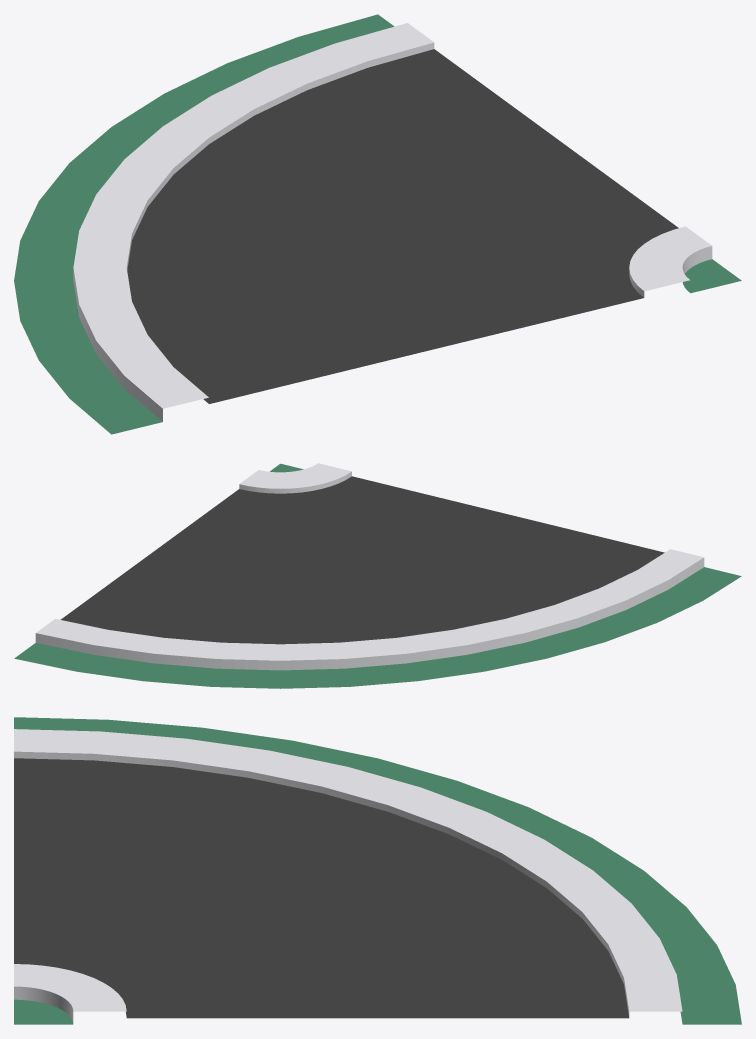
The model's file is roadCornerSmall.glb.
3 views of the same model, one above another, from view 1: azimuth 30°, elevation 25°; view 2: azimuth 150°, elevation 25°; view 3: azimuth 270°, elevation 25° (orthographic). The views are drawn at different scales.
Parts seen in each view (by area): view 1: roadCornerSmall(Clone); view 2: roadCornerSmall(Clone); view 3: roadCornerSmall(Clone).
Part boxes in pixels (box(x1,y1,x2,y2)): roadCornerSmall(Clone): box(14, 14, 741, 434); roadCornerSmall(Clone): box(14, 463, 741, 688); roadCornerSmall(Clone): box(14, 717, 741, 1024).
Bounding box in the file's own units: 1 × 0.02 × 1.
